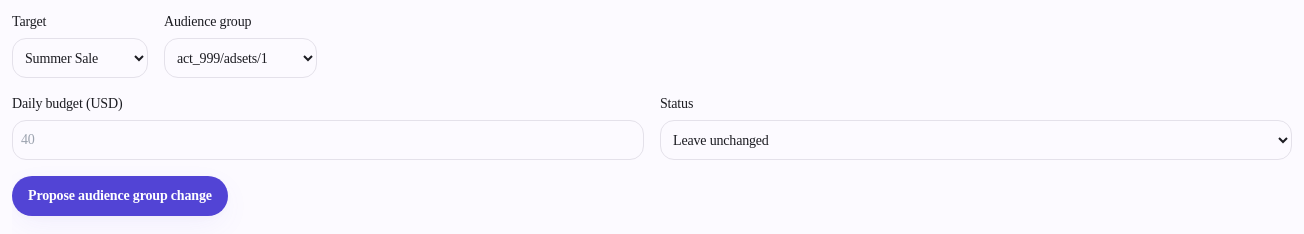
AutomationProposeMetaAdSetEditForm › shows an inline error and does not submit when neither budget nor status is set
Click the button "Propose audience group change": (120, 196) [12,176,228,216]
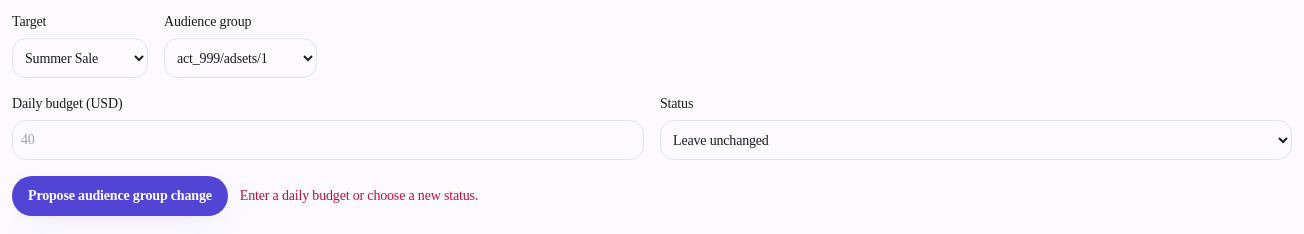
Expected: the message reads "Enter a daily budget or choose a new status.", [240,188,478,203]
